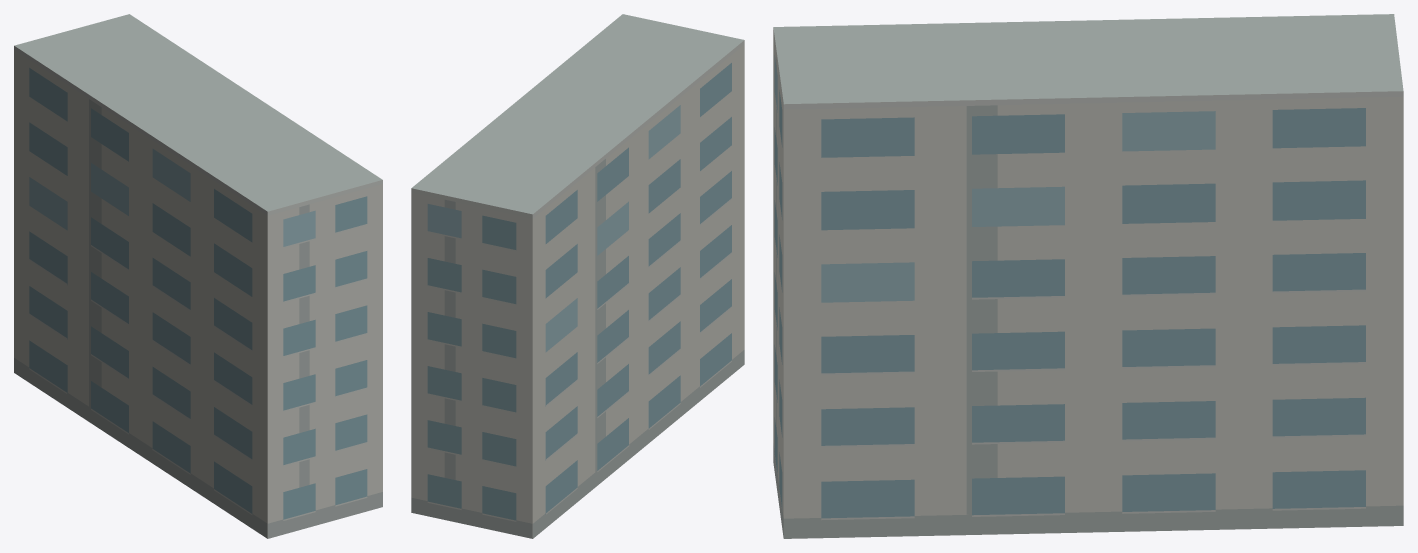
Rendered from survey-upis-32633698.glb.
3 views of the same model, side by side, from view 1: azimuth 30°, elevation 25°; view 2: azimuth 150°, elevation 25°; view 3: azimuth 270°, elevation 25° (orthographic). The views are drawn at different scales.
Parts seen in each view (by area): view 1: survey-upis-32633698.tmp; view 2: survey-upis-32633698.tmp; view 3: survey-upis-32633698.tmp.
Part boxes in pixels (left/top/right/bottom): survey-upis-32633698.tmp: left=14, top=14, right=382, bottom=538; survey-upis-32633698.tmp: left=411, top=14, right=744, bottom=538; survey-upis-32633698.tmp: left=773, top=14, right=1403, bottom=538.
Size of the model in its own units: 8.33 by 18.7 by 24.58.
